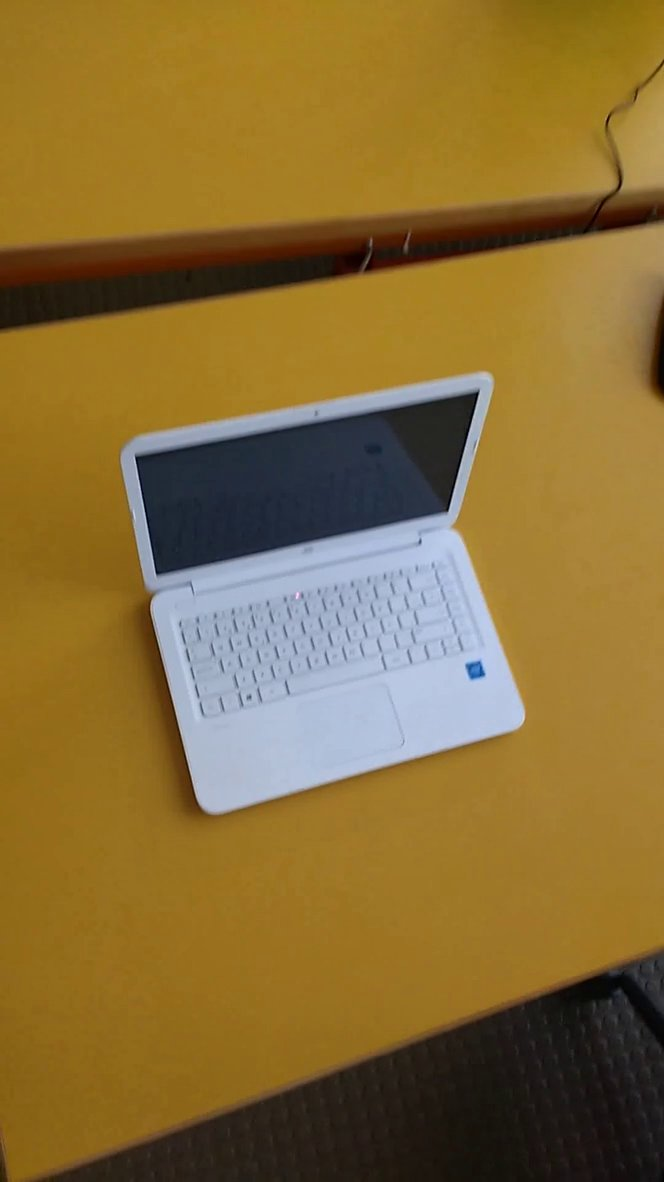laptop: (113, 364, 540, 823)
